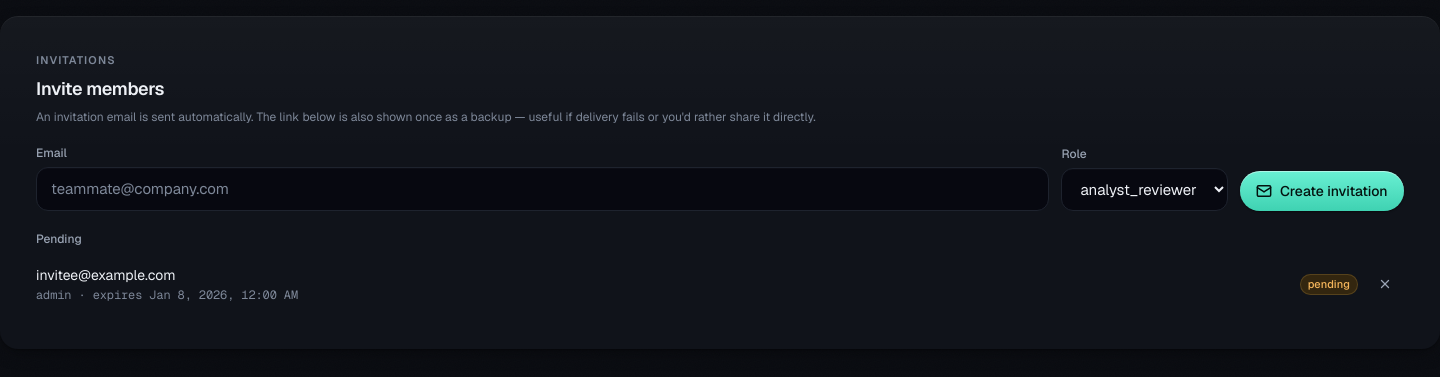
Scenario: InvitationsPanel › revokes a pending invitation
Check: the text "invitee@example.com" is shown, box [36,266,176,284]
Click the button named "revoke invitation" at (1385, 284), box [1366,268,1404,300]
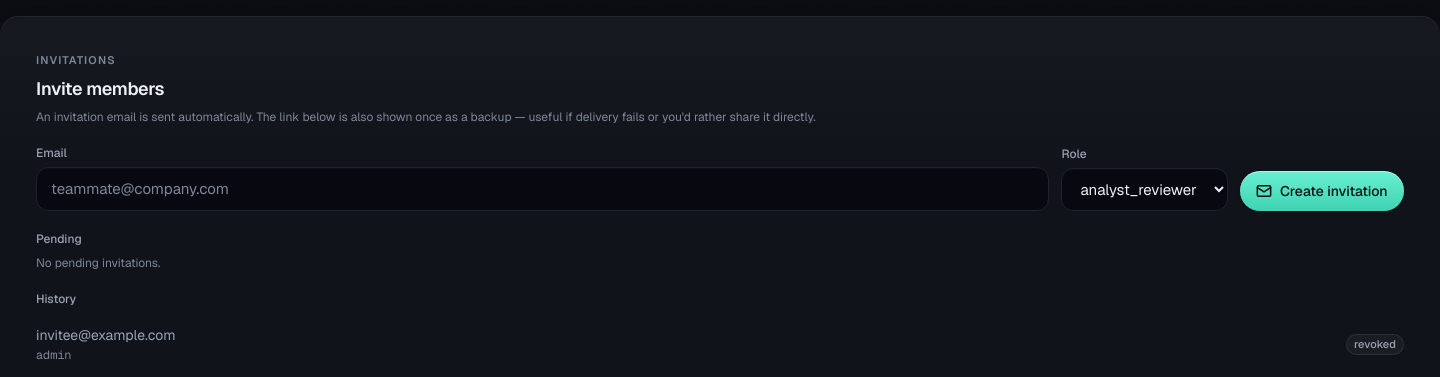
Check: the text "revoked" is shown, box [1346,334,1404,354]
